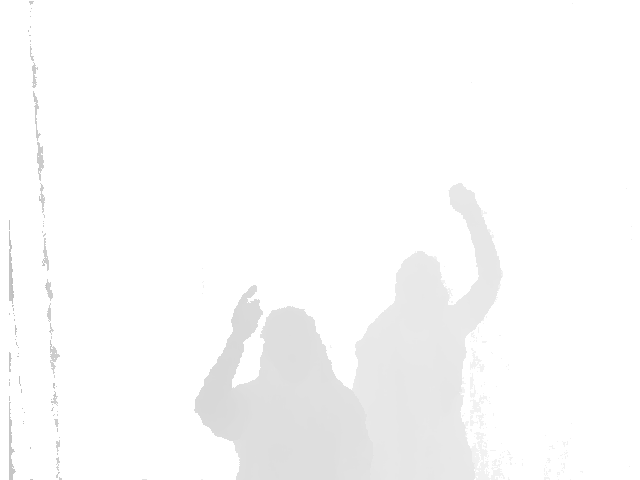hand: (230, 285, 264, 337), (448, 183, 484, 216)
head: (258, 306, 336, 380), (392, 252, 448, 313)
person: (352, 183, 504, 479), (192, 286, 373, 480)
